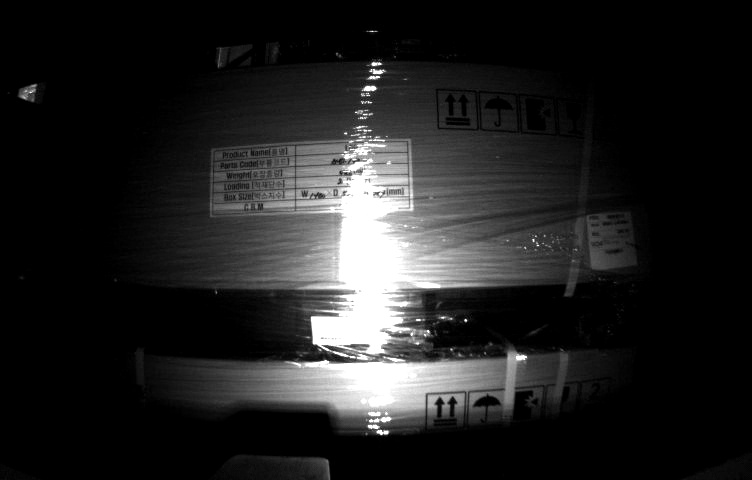True Barcode: (586, 209, 638, 269)
